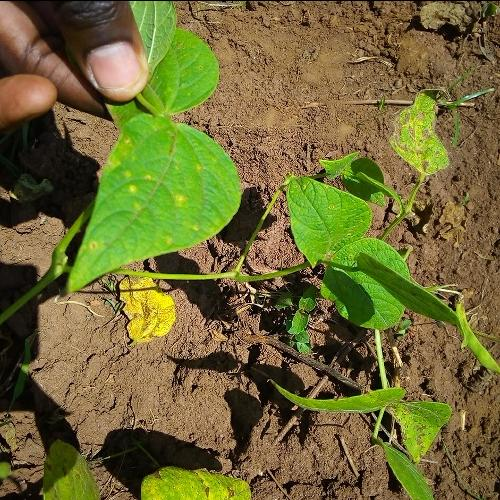hawar: (90, 120, 219, 246)
